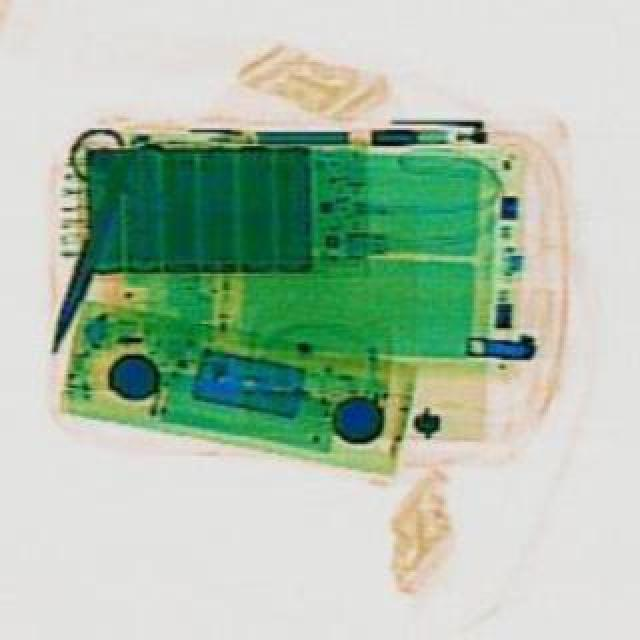pliers: (0, 126, 176, 376)
